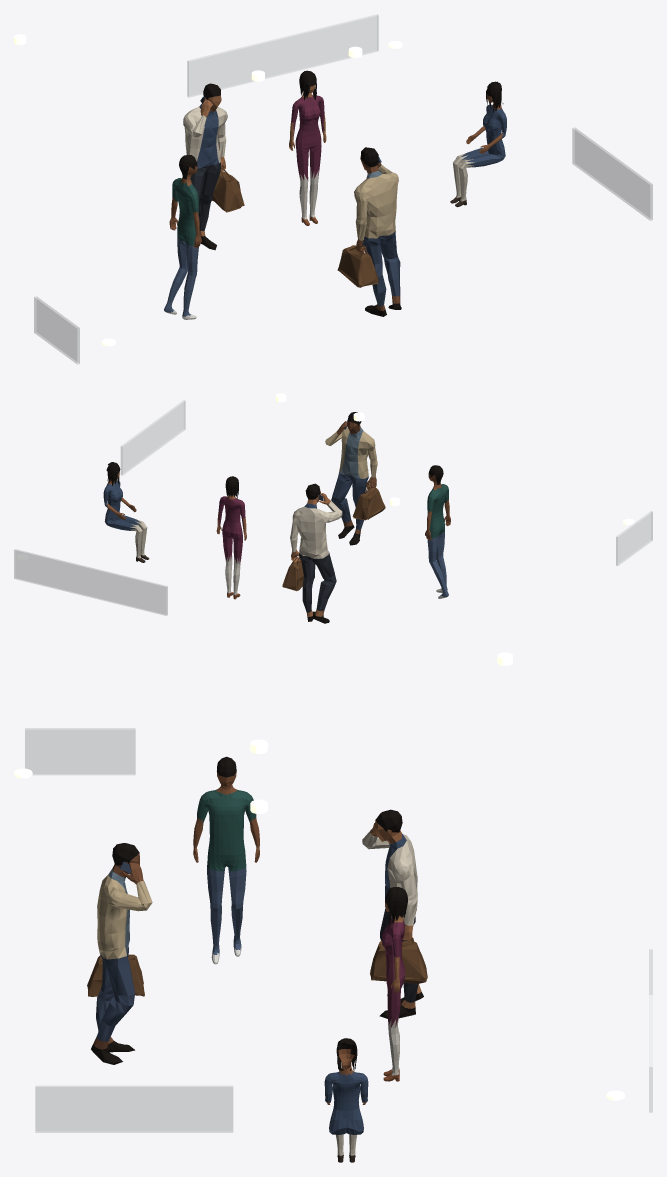
The model's file is room-lower-fixtures.gltf.
3 renders of one model, top to bottom at view 1: azimuth 30°, elevation 25°; view 2: azimuth 150°, elevation 25°; view 3: azimuth 270°, elevation 25°, orthographic. The views are drawn at different scales.
Parts seen in each view (by area): view 1: room-lower.baked.flat.001, room-lower.baked.glass.001, room-lower.baked.glow.001; view 2: room-lower.baked.flat.001, room-lower.baked.glass.001, room-lower.baked.glow.001; view 3: room-lower.baked.flat.001, room-lower.baked.glass.001, room-lower.baked.glow.001.
Part boxes in pixels (x1,y1,x2,y2): room-lower.baked.flat.001: (164,70,506,319); room-lower.baked.glass.001: (34,14,652,364); room-lower.baked.glow.001: (14,34,402,346); room-lower.baked.flat.001: (103,412,450,623); room-lower.baked.glass.001: (14,400,652,615); room-lower.baked.glow.001: (17,393,634,560); room-lower.baked.flat.001: (87,756,427,1162); room-lower.baked.glass.001: (25,728,652,1132); room-lower.baked.glow.001: (14,652,624,1100).
Bounding box in the file's own units: 2.62 × 0.9234 × 1.97.
